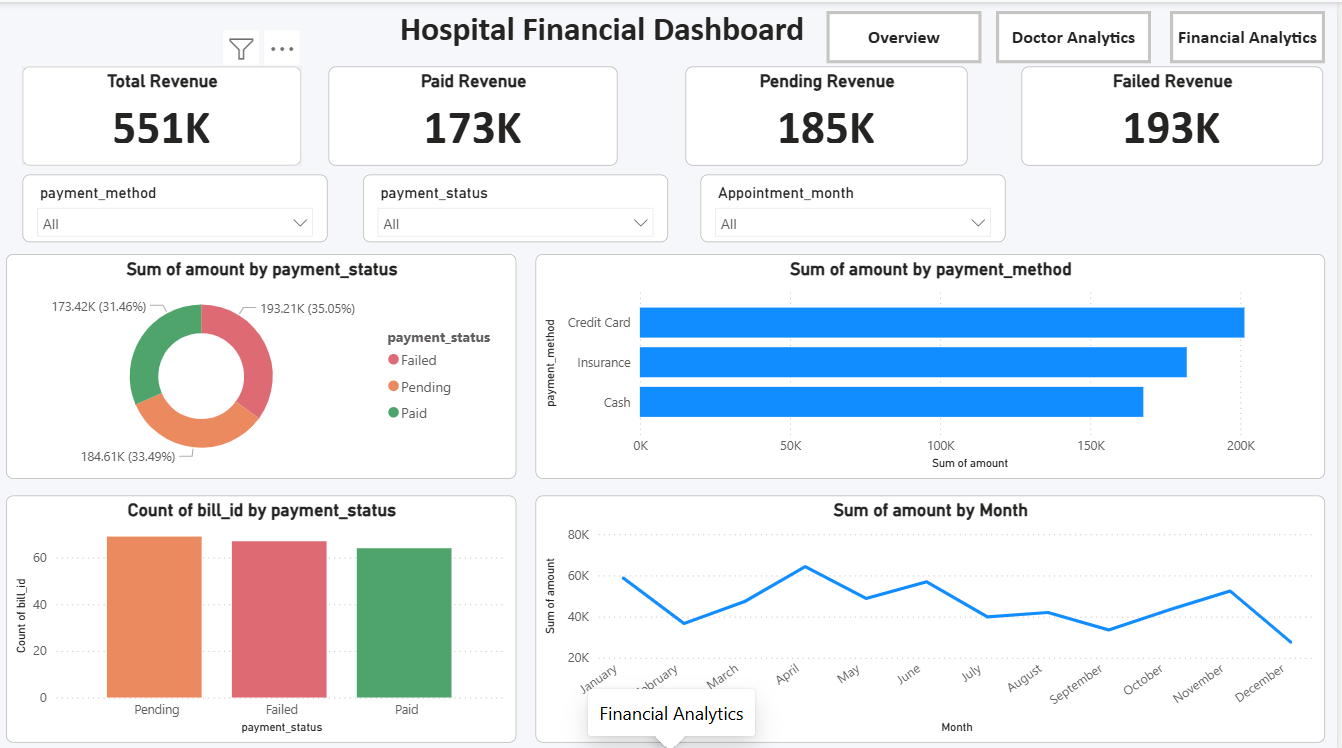

What the dashboard file says about the page in this screenshot:
{"tool":"powerbi","page":{"name":"Financial Analytics","canvas":[1280,720],"ordinal":2},"visuals":[{"type":"textbox","box":[8.3,0,767,54.9],"z":0},{"type":"cardVisual","title":"Total Revenue","fields":{"Data":["tblBilling.Total Revenue"]},"box":[25,61.3,266.2,94.8],"z":1},{"type":"cardVisual","title":"Paid Revenue","fields":{"Data":["tblAppointments.Paid Revenue"]},"box":[316.1,61.3,276.2,94.8],"z":2},{"type":"cardVisual","title":"Pending Revenue","fields":{"Data":["tblAppointments.Pending Revenue"]},"box":[657.2,61.6,269.5,94.8],"z":3},{"type":"cardVisual","title":"Failed Revenue","fields":{"Data":["tblAppointments.Failed Revenue"]},"box":[978.3,61.6,287.8,94.8],"z":4},{"type":"lineChart","fields":{"Y":["Sum(tblBilling.amount)"],"Category":["tblBilling.bill_date.Variation.Date Hierarchy.Month"]},"box":[514.1,470.9,753.7,236.3],"z":5},{"type":"donutChart","fields":{"Category":["tblBilling.payment_status"],"Y":["Sum(tblBilling.amount)"]},"box":[8.3,241.2,487.5,214.6],"z":6},{"type":"clusteredBarChart","fields":{"Category":["tblBilling.payment_method"],"Y":["Sum(tblBilling.amount)"]},"box":[514.1,241.2,753.7,214.6],"z":7},{"type":"clusteredColumnChart","fields":{"Category":["tblBilling.payment_status"],"Y":["CountNonNull(tblBilling.bill_id)"]},"box":[8.3,470.9,487.5,236.3],"z":8},{"type":"slicer","fields":{"Values":["tblBilling.payment_method"]},"box":[25,164.2,291.2,64.9],"z":9},{"type":"slicer","fields":{"Values":["tblBilling.payment_status"]},"box":[349.4,164.2,291.2,64.9],"z":10},{"type":"slicer","fields":{"Values":["tblAppointments.Appointment_month"]},"box":[672.2,164.2,291.2,64.9],"z":11},{"type":"actionButton","title":"Overview","box":[792,8.1,148.1,49.9],"z":12},{"type":"actionButton","title":"Overview","box":[953.4,8.1,148.1,49.9],"z":13},{"type":"actionButton","title":"Overview","box":[1119.7,8.3,148.1,49.9],"z":14}]}

Visuals, with their boxes in screenshot pixels (x1, y1, x2, y2), scaled from the page's 1280x720 canvas onto the 1342x748 screenshot:
textbox: x1=9 y1=0 x2=813 y2=57
"Total Revenue" cardVisual: x1=26 y1=64 x2=305 y2=162
"Paid Revenue" cardVisual: x1=331 y1=64 x2=621 y2=162
"Pending Revenue" cardVisual: x1=689 y1=64 x2=972 y2=162
"Failed Revenue" cardVisual: x1=1026 y1=64 x2=1327 y2=162
lineChart - Sum(tblBilling.amount) x tblBilling.bill_date.Variation.Date Hierarchy.Month: x1=539 y1=489 x2=1329 y2=735
donutChart - tblBilling.payment_status x Sum(tblBilling.amount): x1=9 y1=251 x2=520 y2=474
clusteredBarChart - tblBilling.payment_method x Sum(tblBilling.amount): x1=539 y1=251 x2=1329 y2=474
clusteredColumnChart - tblBilling.payment_status x CountNonNull(tblBilling.bill_id): x1=9 y1=489 x2=520 y2=735
slicer - tblBilling.payment_method: x1=26 y1=171 x2=332 y2=238
slicer - tblBilling.payment_status: x1=366 y1=171 x2=672 y2=238
slicer - tblAppointments.Appointment_month: x1=705 y1=171 x2=1010 y2=238
"Overview" actionButton: x1=830 y1=8 x2=986 y2=60
"Overview" actionButton: x1=1000 y1=8 x2=1155 y2=60
"Overview" actionButton: x1=1174 y1=9 x2=1329 y2=60
